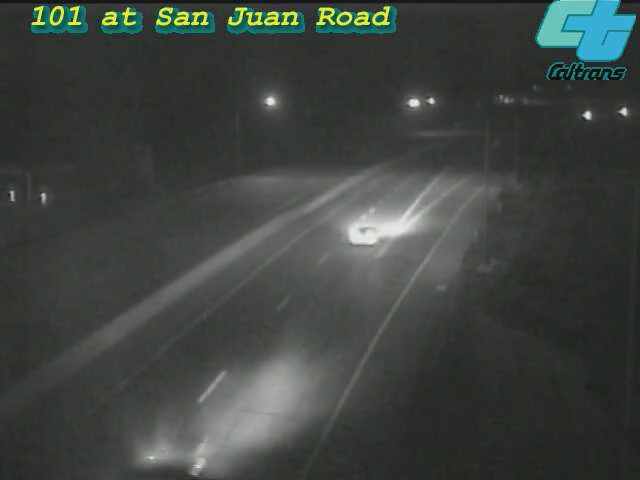vehicle: (104, 414, 214, 480), (323, 193, 403, 273), (563, 90, 613, 140), (598, 87, 640, 137)
